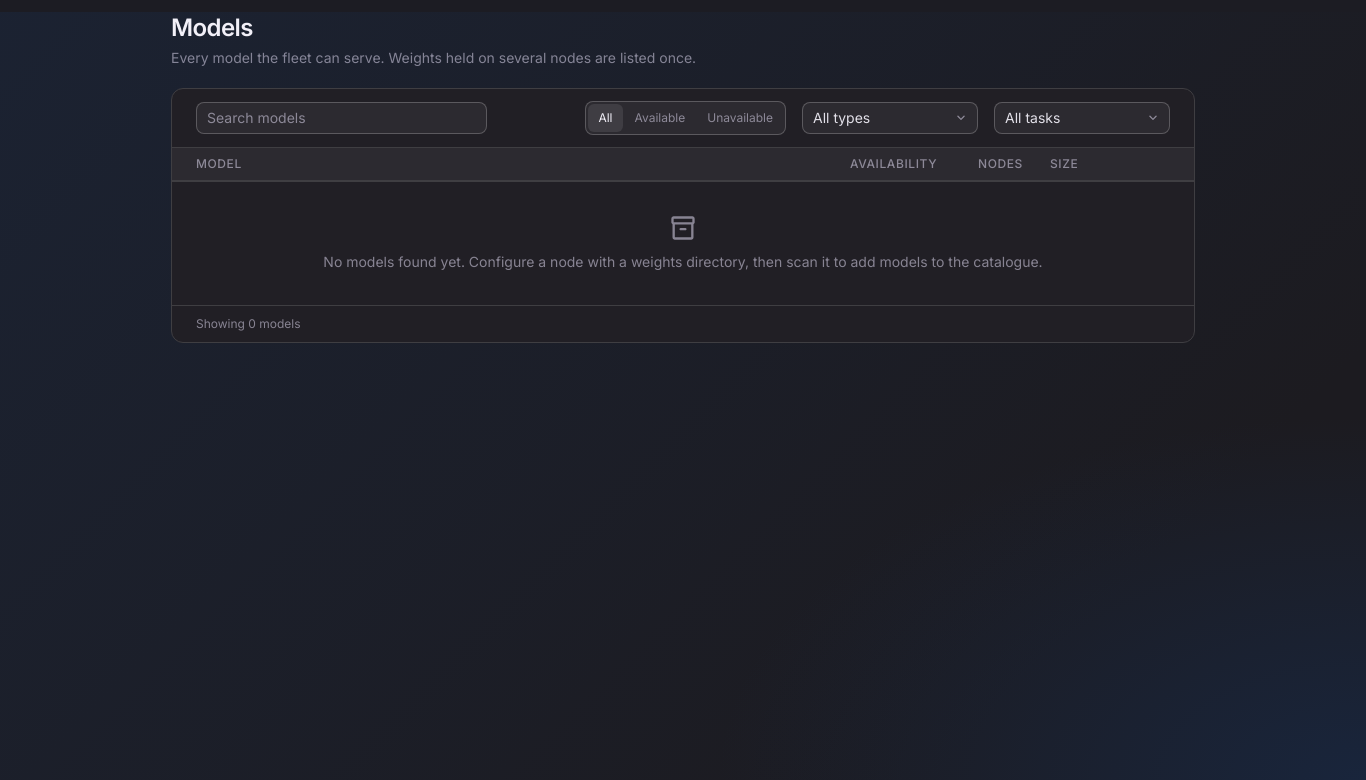
Test: Models page › explains an empty catalogue, then a search or a view that matches nothing
Expected: the element with test id "table-empty" shows "No models found yet.", [323, 253, 1043, 270]
Type "qwen" into the field with placeholder "Search models". click: (341, 118)
box: [207, 103, 476, 133]
Wait 400 ms
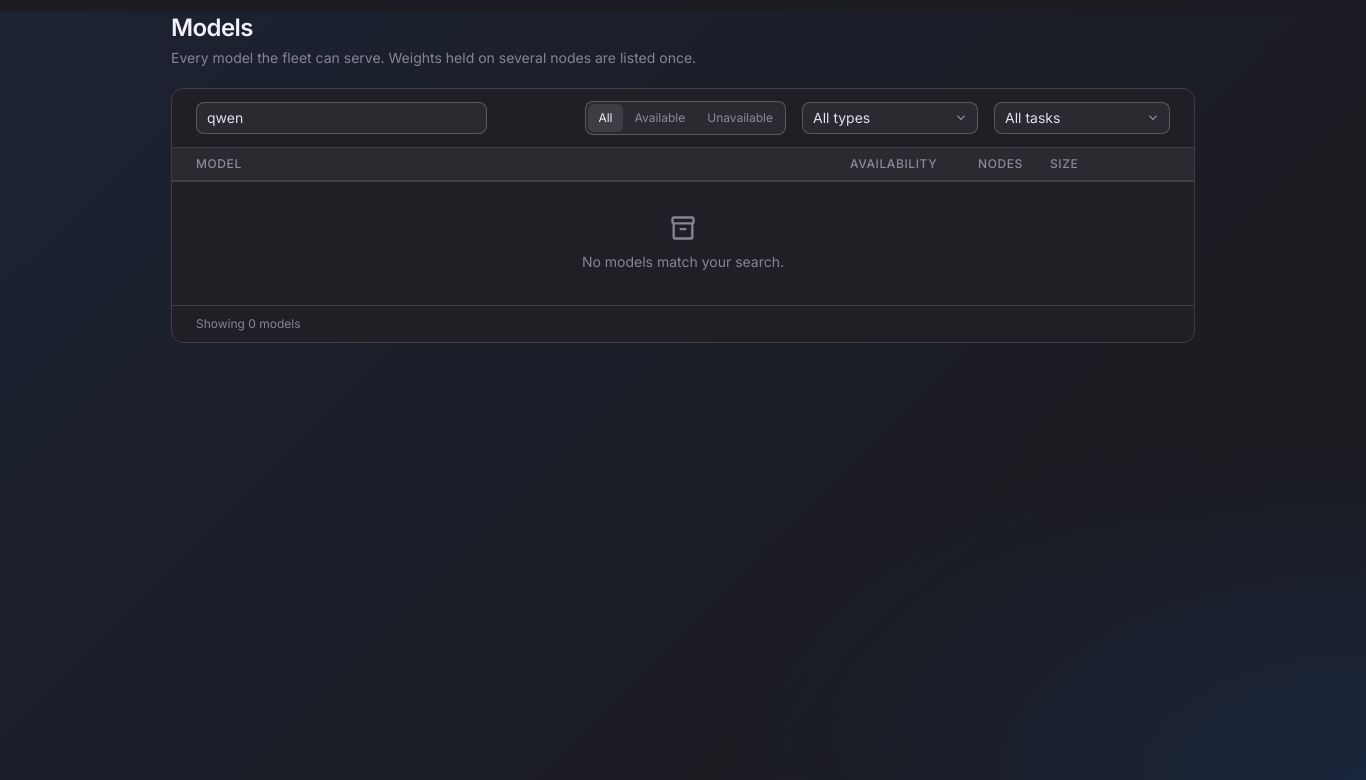
Expected: the element with test id "table-empty" reads "No models match your search.", [582, 253, 784, 270]
Click the radio button labelled "Available". click: click(660, 118)
box: [624, 104, 695, 132]
Wait 400 ms
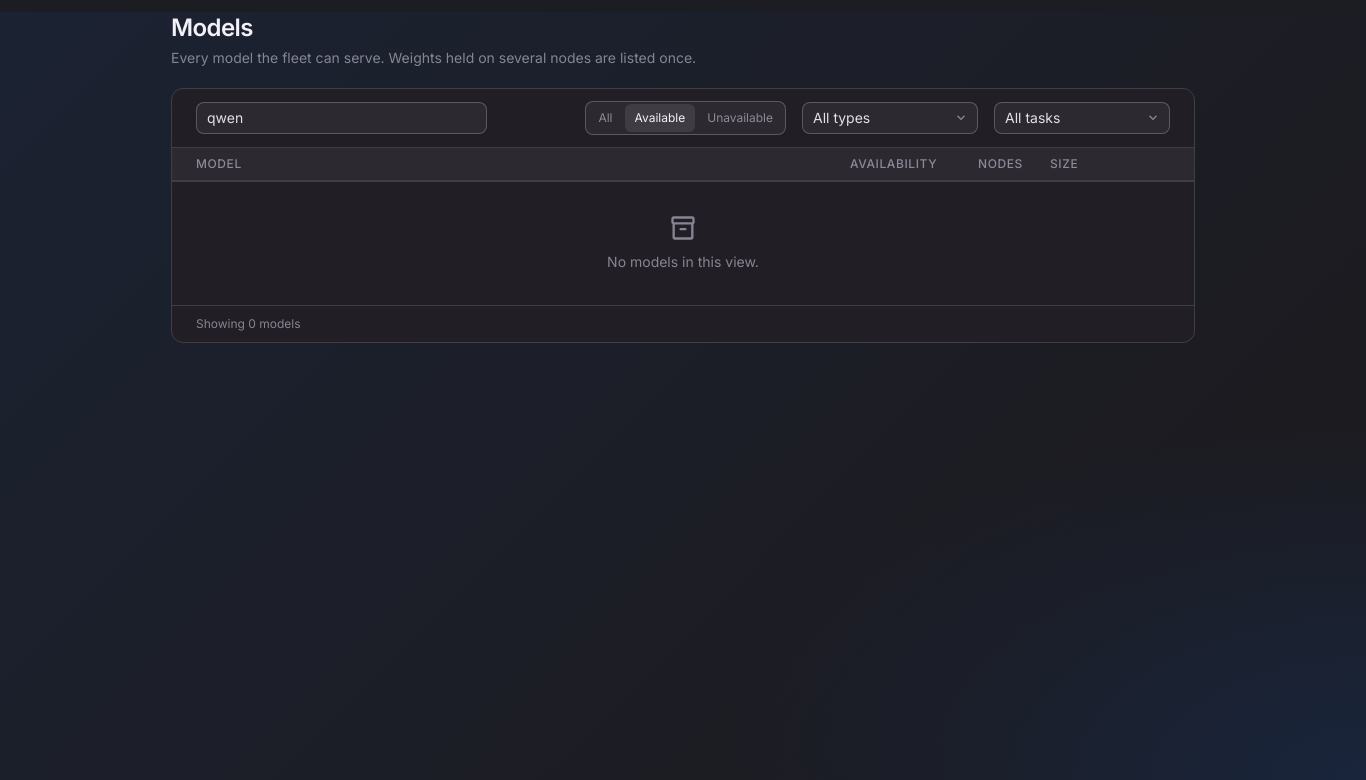
Expected: the element with test id "table-empty" reads "No models in this view.", [607, 253, 759, 270]
